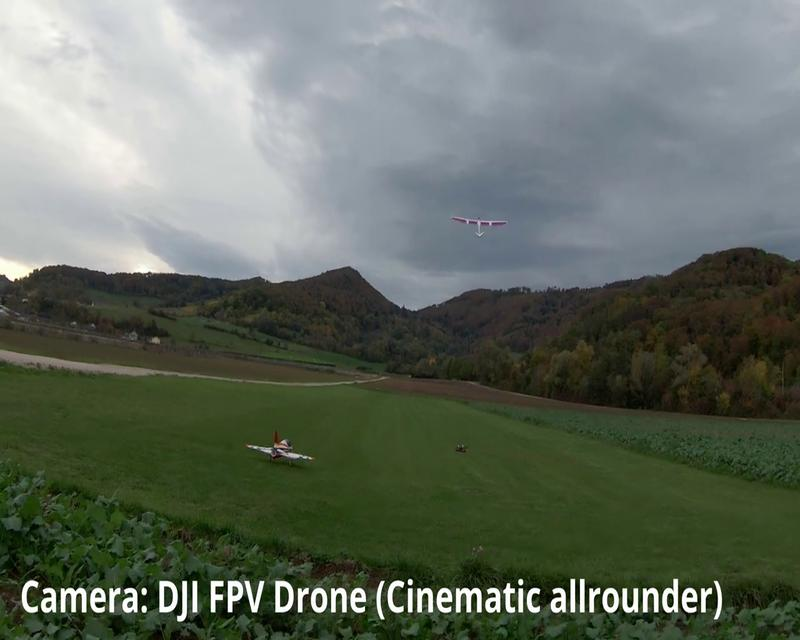UAV: (243, 429, 314, 465), (452, 214, 507, 238)
